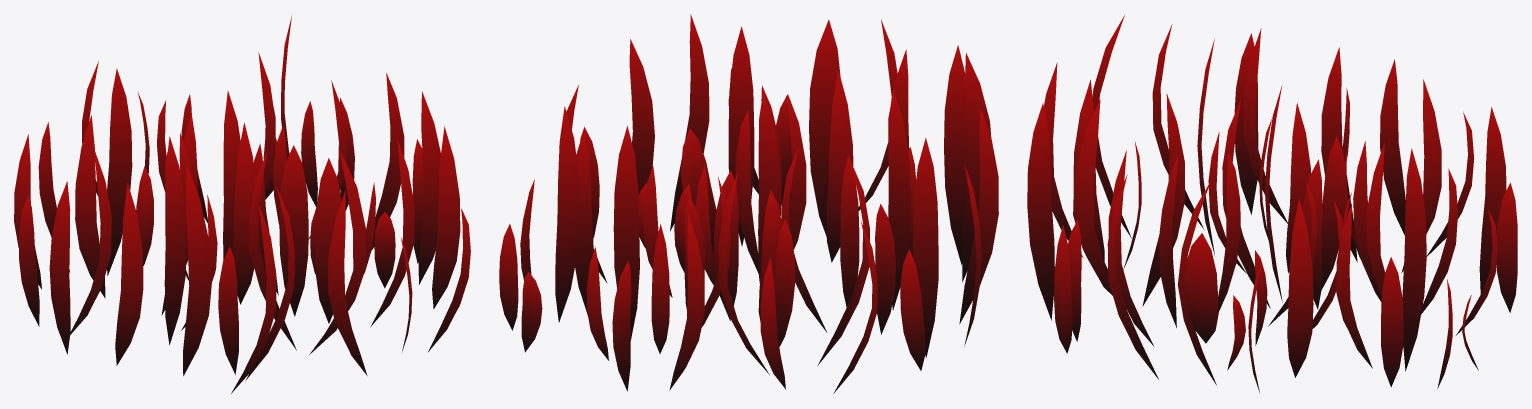
The model's file is GrassLOD0.fbx.
The picture shows the model from 3 angles, left to right: view 1: azimuth 30°, elevation 25°; view 2: azimuth 150°, elevation 25°; view 3: azimuth 270°, elevation 25°; orthographic projection. The views are drawn at different scales.
Parts seen in each view (by area): view 1: GrassLOD0; view 2: GrassLOD0; view 3: GrassLOD0.
Boxes of the visible parts, x1,y1,x2,y2 form: GrassLOD0: (14,16,470,393); GrassLOD0: (499,14,998,393); GrassLOD0: (1027,15,1517,392).
Bounding box in the file's own units: 293 × 165 × 314.
